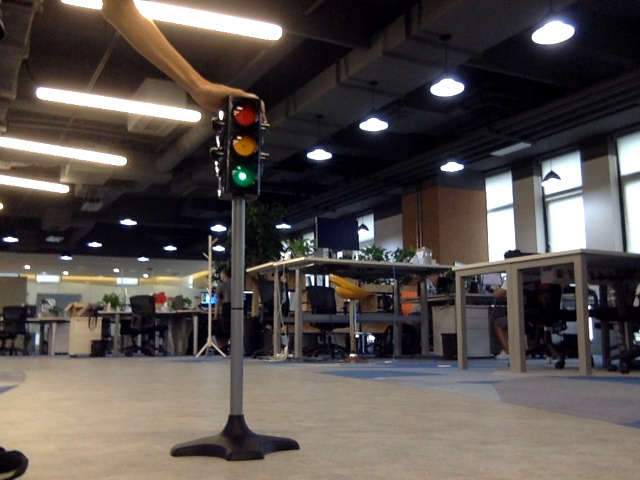green: (229, 103, 254, 192)
